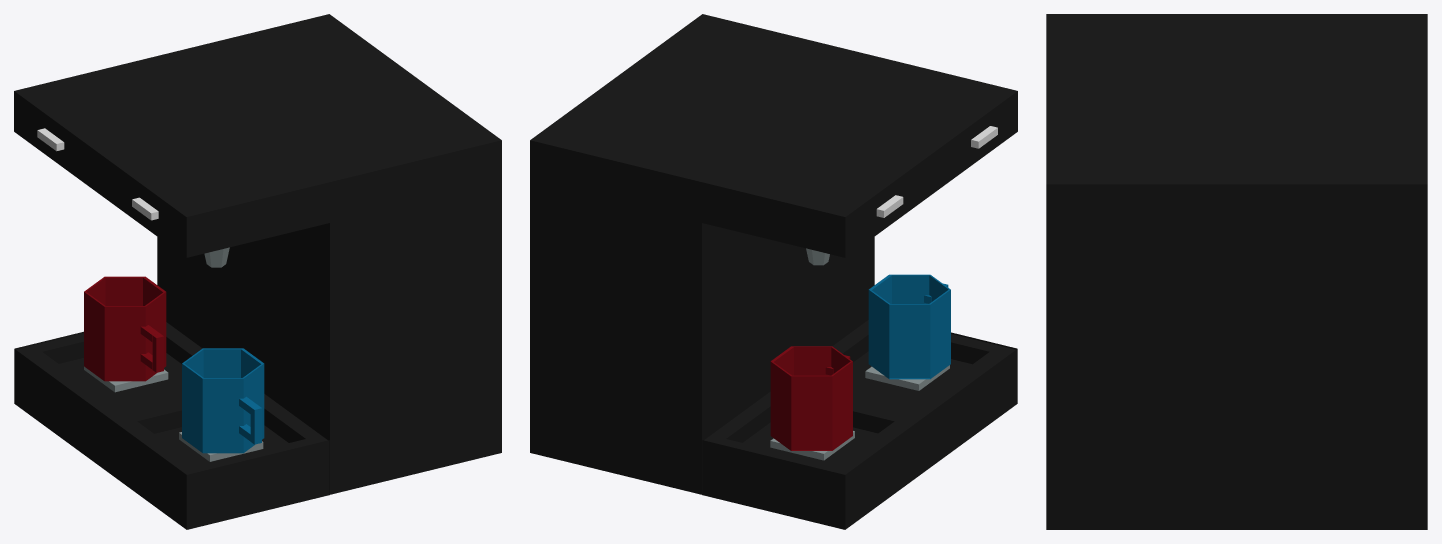
The model's file is Cafetera.fbx.
The picture shows the model from 3 angles, left to right: view 1: azimuth 30°, elevation 25°; view 2: azimuth 150°, elevation 25°; view 3: azimuth 270°, elevation 25°; orthographic projection. The views are drawn at different scales.
Visible parts, largest first — view 1: Cubo, Cube, Cilindro.003, Cilindro.002, Cubo.001; view 2: Cubo, Cube, Cilindro.003, Cilindro.002, Cubo.002; view 3: Cubo.
Part boxes in pixels (<box>): Cubo: <box>14,14,501,494</box>; Cube: <box>14,320,329,529</box>; Cilindro.003: <box>182,348,264,453</box>; Cilindro.002: <box>84,276,166,381</box>; Cubo.001: <box>84,366,168,392</box>; Cubo: <box>530,14,1017,494</box>; Cube: <box>702,318,1017,529</box>; Cilindro.003: <box>868,274,950,379</box>; Cilindro.002: <box>770,346,852,450</box>; Cubo.002: <box>865,365,949,390</box>; Cubo: <box>1046,14,1427,529</box>.
Bounding box in the file's own units: 2.16 × 2 × 2.
